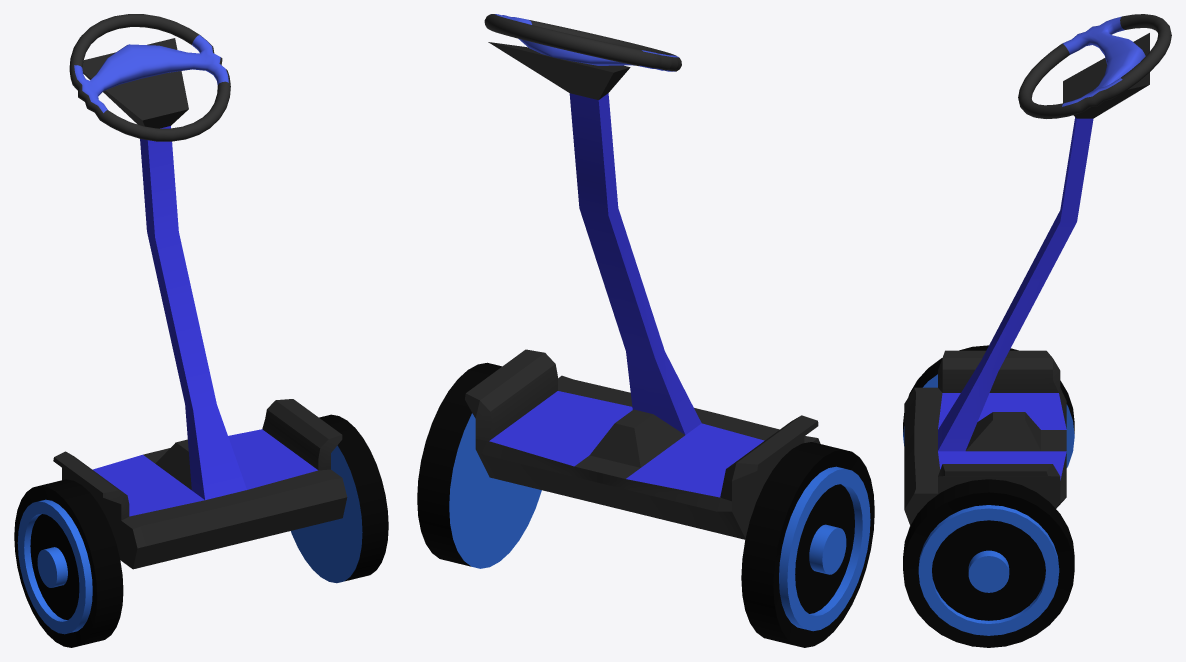
File: segway.fbx
3 views of the same model, side by side, from view 1: azimuth 30°, elevation 25°; view 2: azimuth 150°, elevation 25°; view 3: azimuth 270°, elevation 25° (orthographic). The views are drawn at different scales.
Visible parts, largest first — view 1: Cube.013, Cylinder.018, Torus.001; view 2: Cube.013, Cylinder.018, Torus.001; view 3: Cube.013, Cylinder.018, Torus.001.
Part boxes in pixels (<box>): Cube.013: <box>53,38,347,569</box>; Cylinder.018: <box>14,414,388,647</box>; Torus.001: <box>69,14,230,141</box>; Cube.013: <box>465,42,820,539</box>; Cylinder.018: <box>417,362,874,647</box>; Torus.001: <box>484,14,681,71</box>; Cube.013: <box>904,33,1149,525</box>; Cylinder.018: <box>903,345,1074,647</box>; Torus.001: <box>1018,14,1171,118</box>.
Bounding box in the file's own units: 87.16 × 143 × 63.65.
